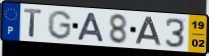3: (164, 17, 187, 49)
8: (108, 13, 129, 45)
A: (76, 12, 106, 43), (134, 16, 163, 47)
G: (46, 9, 73, 41)
T: (23, 8, 44, 39)
